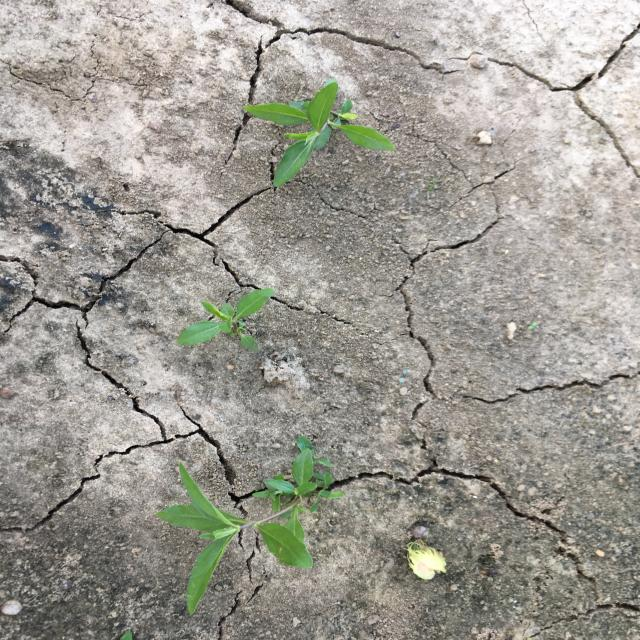Eclipta: (152, 433, 347, 617), (239, 76, 399, 188), (175, 285, 277, 354)
